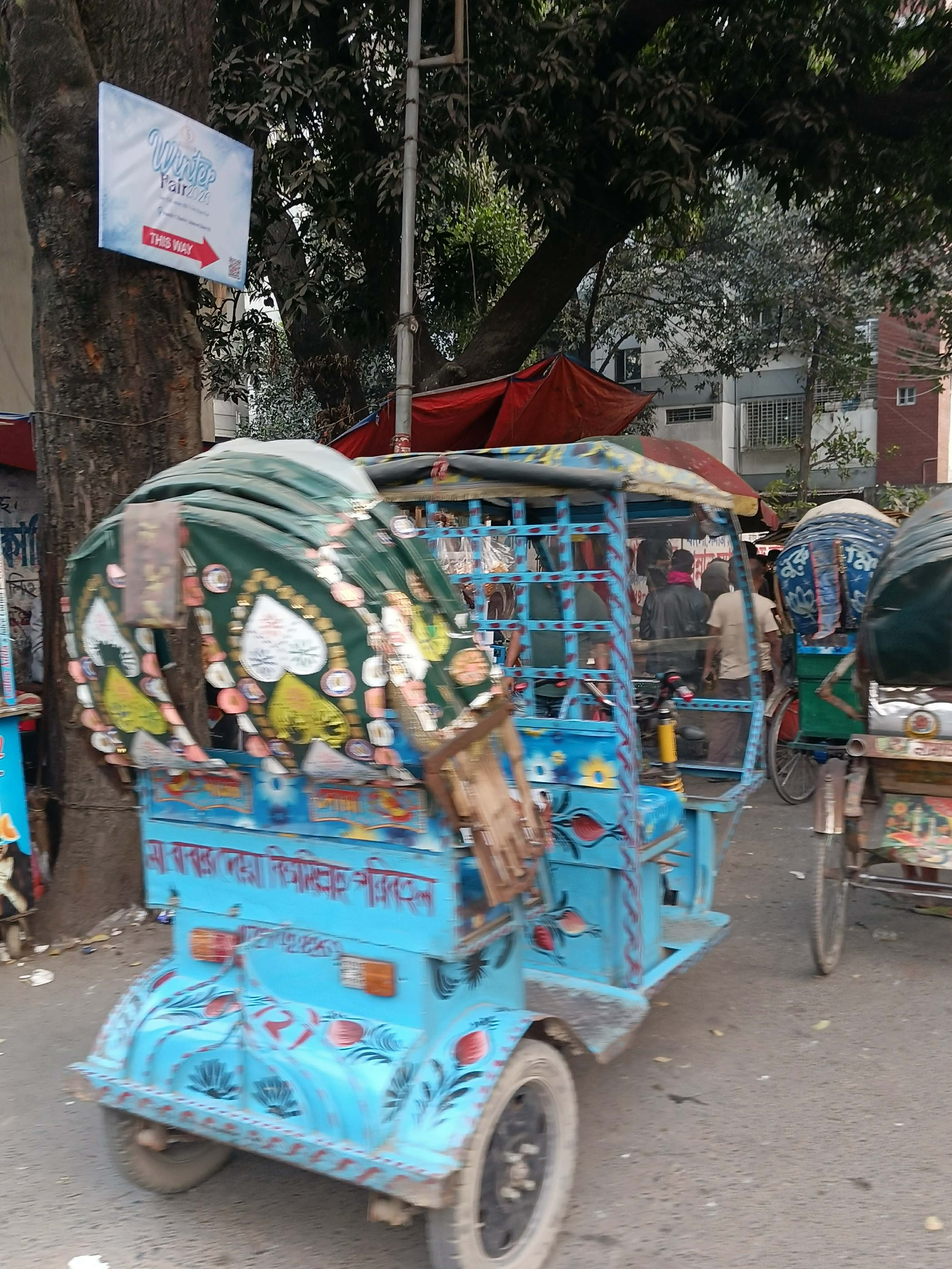auto-ricksaw: (56, 426, 779, 1269)
